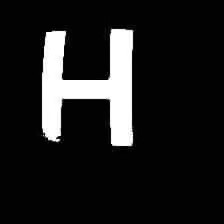LTR_H: (27, 16, 142, 161)
